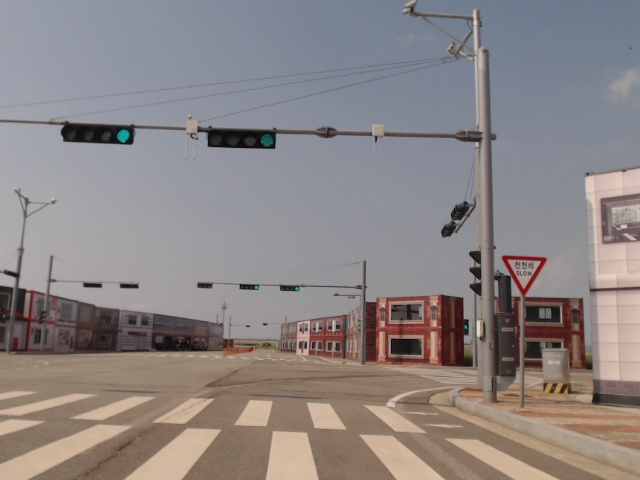straight_green_4: (61, 122, 135, 146), (208, 129, 276, 150), (280, 284, 300, 292), (240, 283, 260, 291)
